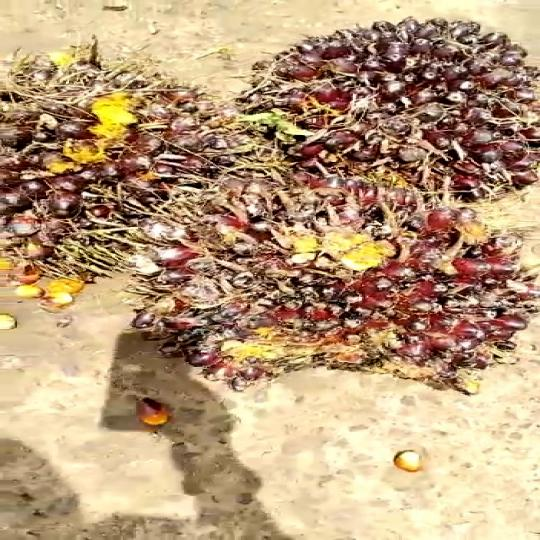kurang masak: (123, 160, 498, 390), (0, 56, 281, 321), (216, 7, 540, 206)
